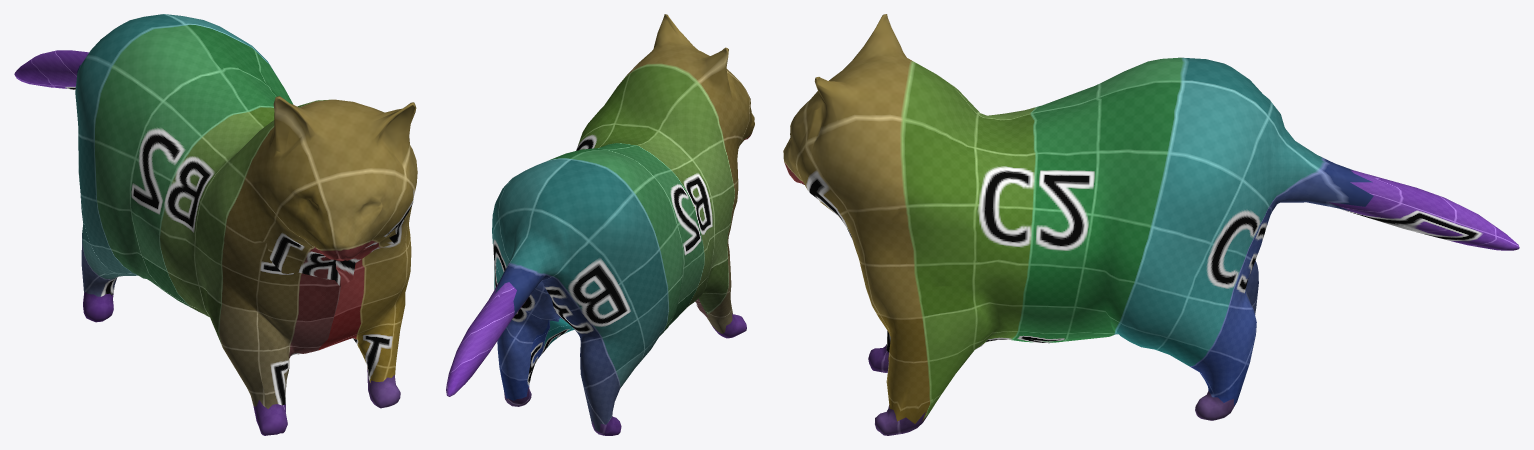
Rendered from cat.gltf.
3 views of the same model, side by side, from view 1: azimuth 30°, elevation 25°; view 2: azimuth 150°, elevation 25°; view 3: azimuth 270°, elevation 25° (orthographic). The views are drawn at different scales.
Visible parts, largest first — view 1: 0; view 2: 0; view 3: 0.
Boxes of the visible parts, box(x1,y1,x2,y2) form: 0: box(14, 14, 417, 435); 0: box(446, 14, 754, 435); 0: box(783, 14, 1519, 435).
Bounding box in the file's own units: 0.2391 × 0.3866 × 0.7116.
